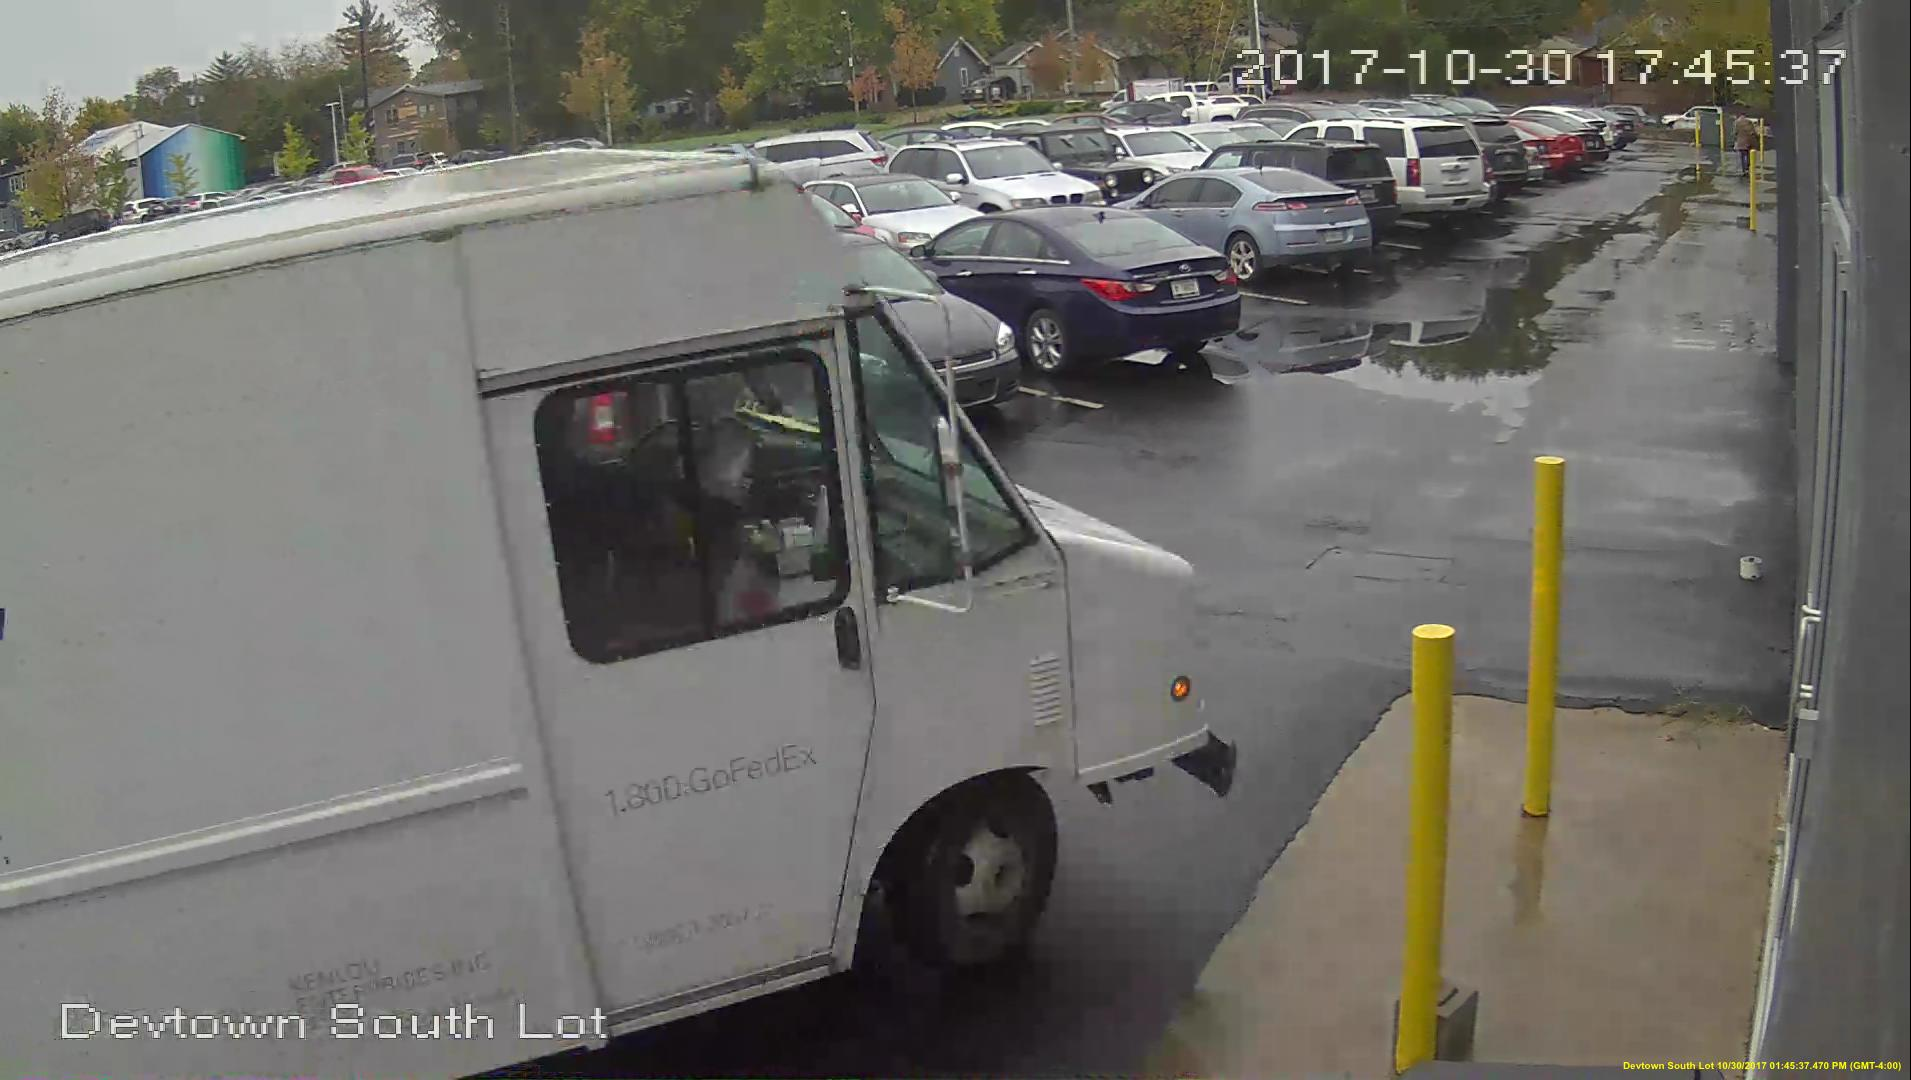fedex_truck: (5, 165, 1190, 1073)
